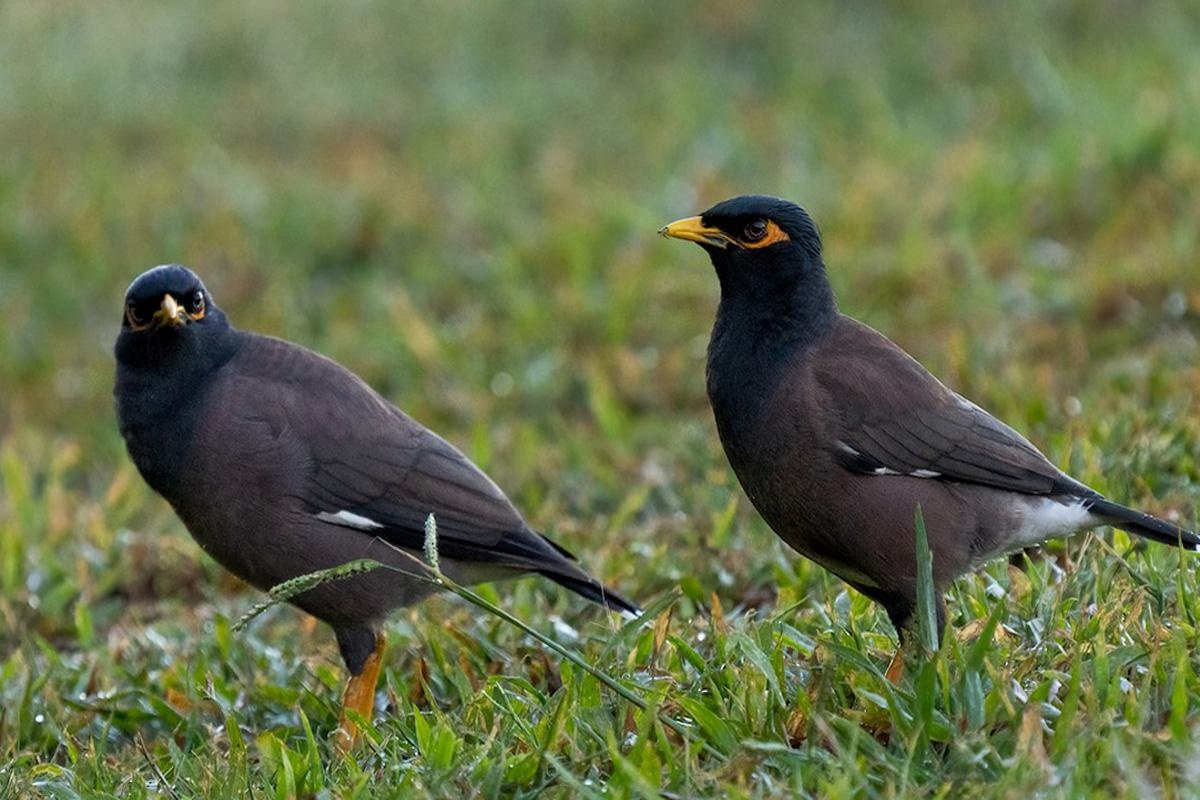myna: (97, 238, 631, 713), (644, 192, 1174, 665)
